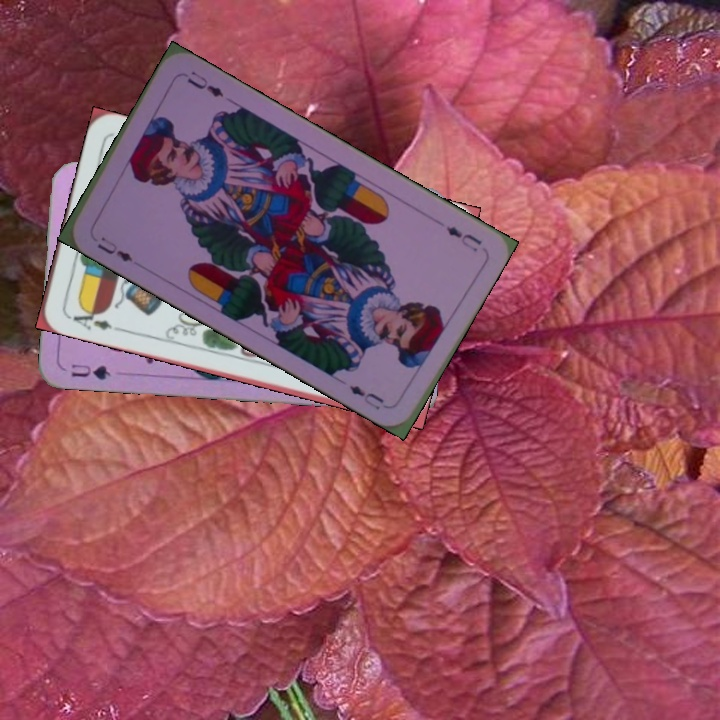EA: (64, 302, 115, 333)
EU: (442, 221, 485, 254), (93, 233, 135, 265)
GU: (67, 360, 113, 382)
